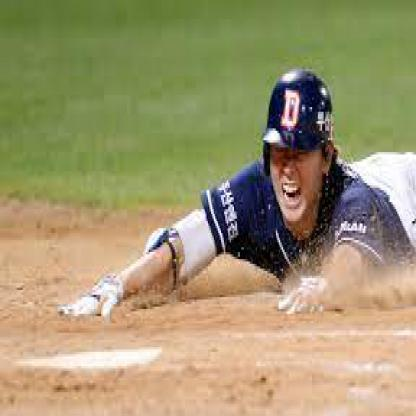Fall_Down: (52, 62, 414, 332)
